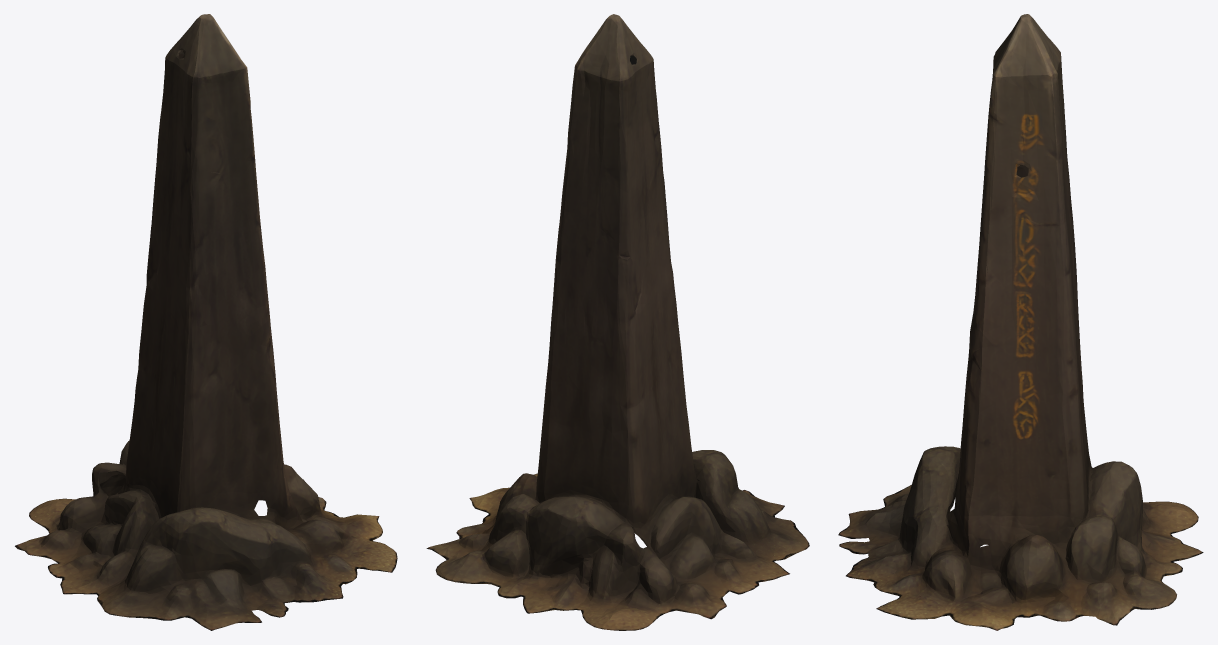
Rendered from whispering_obelisk.glb.
The picture shows the model from 3 angles, left to right: view 1: azimuth 30°, elevation 25°; view 2: azimuth 150°, elevation 25°; view 3: azimuth 270°, elevation 25°; orthographic projection.
Parts seen in each view (by area): view 1: world; view 2: world; view 3: world.
Boxes of the visible parts, x1,y1,x2,y2 form: world: (15, 14, 397, 630); world: (426, 14, 809, 630); world: (838, 14, 1203, 630).
Bounding box in the file's own units: 0.6242 × 0.9985 × 0.6134.
Materials: 1 (1 with a texture image).
